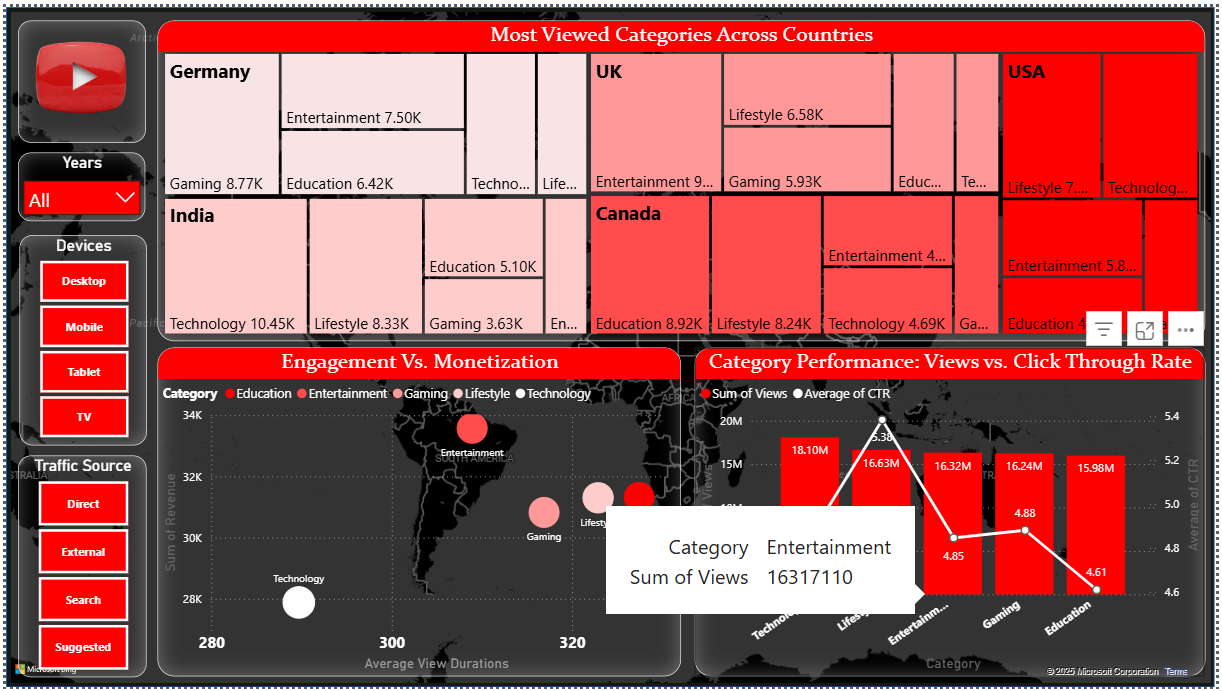

The dashboard page shown, as its layout file describes it:
{"tool":"powerbi","page":{"name":"Category & Engagement Insights","canvas":[1280,720],"ordinal":3},"visuals":[{"type":"shape","box":[0,0,1279,720],"z":1000},{"type":"map","fields":{"Size":["All Measures.Total Subscribers Gained"]},"box":[0,0,1280,720],"z":1500},{"type":"image","box":[12.1,13.6,135,129],"z":2000},{"type":"slicer","title":"Years","fields":{"Values":["YouTube_Analytics_2023.Published_Date.Variation.Date Hierarchy.Year"]},"box":[12.1,154.4,134.8,72.7],"z":3000},{"type":"slicer","title":"Devices","fields":{"Values":["YouTube_Analytics_2023.Device_Type"]},"box":[13.6,240.8,134.8,222.6],"z":4000},{"type":"slicer","title":"Traffic Source","fields":{"Values":["YouTube_Analytics_2023.Traffic_Source"]},"box":[12.1,473.9,136.3,234.7],"z":5000},{"type":"scatterChart","title":"Engagement Vs. Monetization","fields":{"Series":["YouTube_Analytics_2023.Category"],"X":["Avg(YouTube_Analytics_2023.Average_View_Duration)"],"Y":["Sum(YouTube_Analytics_2023.Revenue)"],"Size":["Sum(YouTube_Analytics_2023.Views)"]},"box":[160.5,360.4,554.2,348.3],"z":6000},{"type":"treemap","title":"Most Viewed Categories Across Countries","fields":{"Group":["YouTube_Analytics_2023.Audience_Country"],"Details":["YouTube_Analytics_2023.Category"],"Values":["All Measures.Total Subscribers Gained"]},"box":[160.5,13.6,1108.4,339.2],"z":7000},{"type":"lineClusteredColumnComboChart","title":"Category Performance: Views vs. Click Through Rate","fields":{"Y":["Sum(YouTube_Analytics_2023.Views)"],"Y2":["Avg(YouTube_Analytics_2023.Click_Through_Rate)"],"Category":["YouTube_Analytics_2023.Category"]},"box":[728.3,360.4,540.6,348.3],"z":8000}]}

Visuals, with their boxes on the page's 1280x720 design canvas (x1, y1, x2, y2). These are canvas units, not pixel positions in the 1222x691 screenshot, which may show the page scaled, cropped or inside an application window:
shape: crop(0, 0, 1279, 720)
map - All Measures.Total Subscribers Gained: crop(0, 0, 1280, 720)
image: crop(12, 14, 147, 143)
"Years" slicer: crop(12, 154, 147, 227)
"Devices" slicer: crop(14, 241, 148, 463)
"Traffic Source" slicer: crop(12, 474, 148, 709)
"Engagement Vs. Monetization" scatterChart: crop(160, 360, 715, 709)
"Most Viewed Categories Across Countries" treemap: crop(160, 14, 1269, 353)
"Category Performance: Views vs. Click Through Rate" lineClusteredColumnComboChart: crop(728, 360, 1269, 709)
